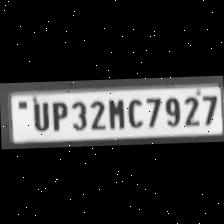2: (180, 93, 200, 128), (86, 96, 106, 130)
3: (67, 97, 87, 130)
7: (198, 92, 218, 125), (142, 94, 160, 128)
9: (159, 94, 181, 128)
C: (124, 94, 144, 128)
M: (104, 96, 124, 130)
P: (46, 98, 68, 132)
U: (27, 99, 49, 130)
